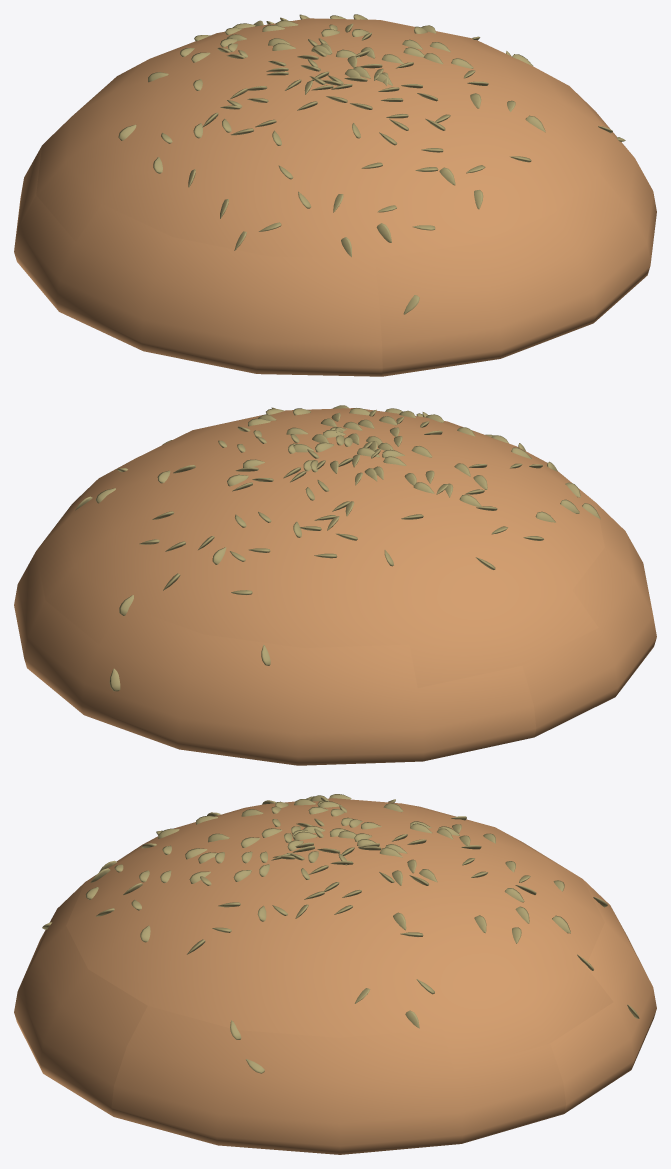
File: bun_top.glb
3 views of the same model, one above another, from view 1: azimuth 30°, elevation 25°; view 2: azimuth 150°, elevation 25°; view 3: azimuth 270°, elevation 25° (orthographic).
Visible parts, largest first — view 1: bun_top; view 2: bun_top; view 3: bun_top.
Part boxes in pixels (x1,y1,x2,y2): bun_top: (14,14,656,376); bun_top: (14,405,656,765); bun_top: (14,794,656,1154).
Bounding box in the file's own units: 0.6048 × 0.1906 × 0.6048.
